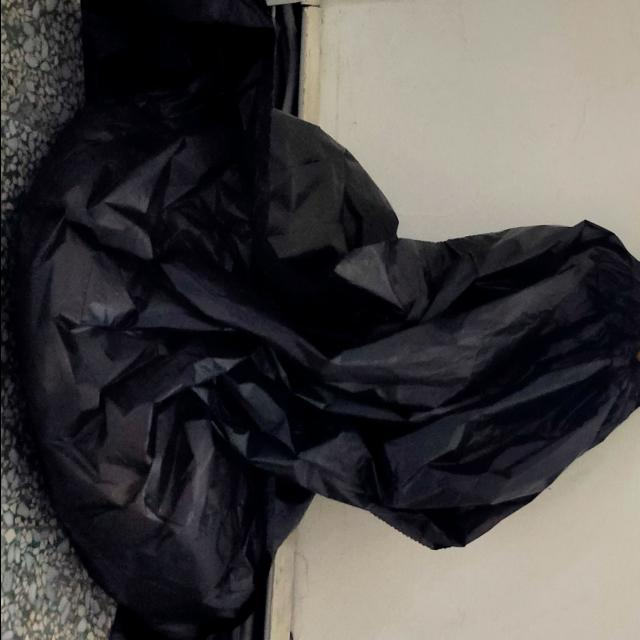Trashbag: (13, 9, 637, 635)
